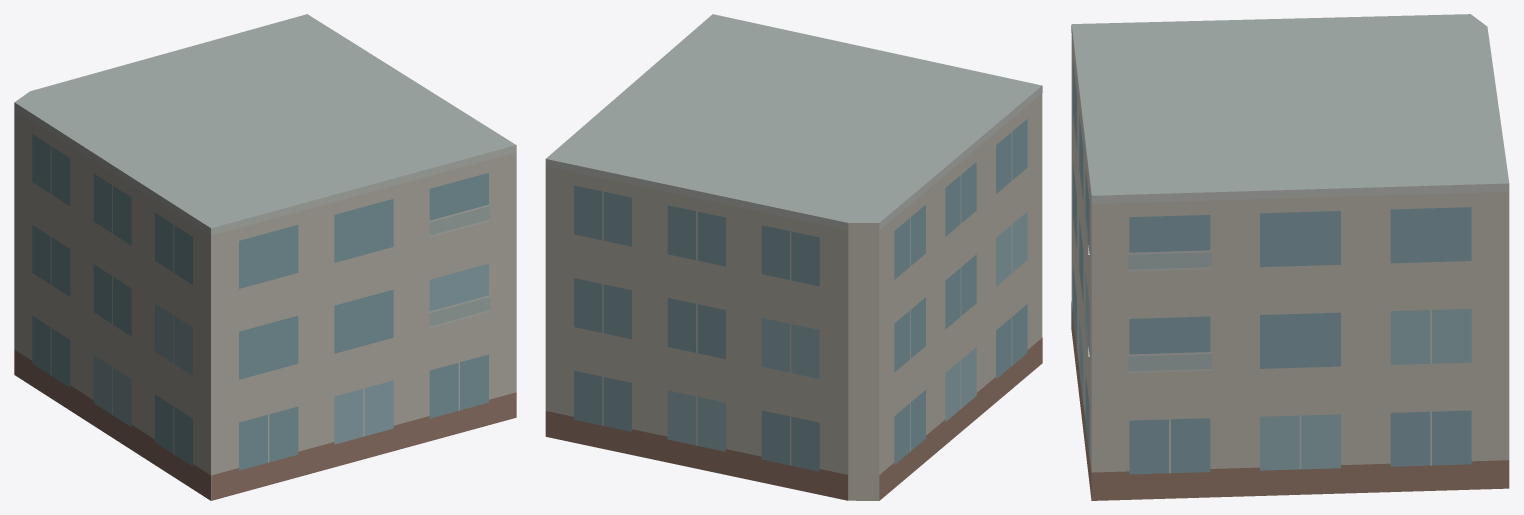
The model's file is survey-upis-32925749.glb.
3 renders of one model, left to right at view 1: azimuth 30°, elevation 25°; view 2: azimuth 150°, elevation 25°; view 3: azimuth 270°, elevation 25°, orthographic. The views are drawn at different scales.
Parts seen in each view (by area): view 1: survey-upis-32925749.tmp; view 2: survey-upis-32925749.tmp; view 3: survey-upis-32925749.tmp.
Part boxes in pixels (left/top/right/bottom): survey-upis-32925749.tmp: left=14, top=14, right=516, bottom=500; survey-upis-32925749.tmp: left=545, top=14, right=1042, bottom=500; survey-upis-32925749.tmp: left=1071, top=14, right=1509, bottom=500.
Bounding box in the file's own units: 11.7 × 9.15 × 11.91.
